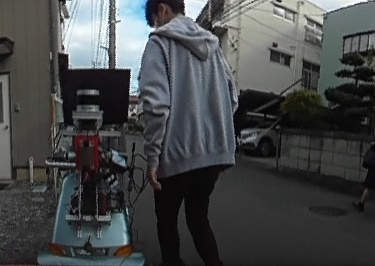person: (137, 0, 237, 266)
